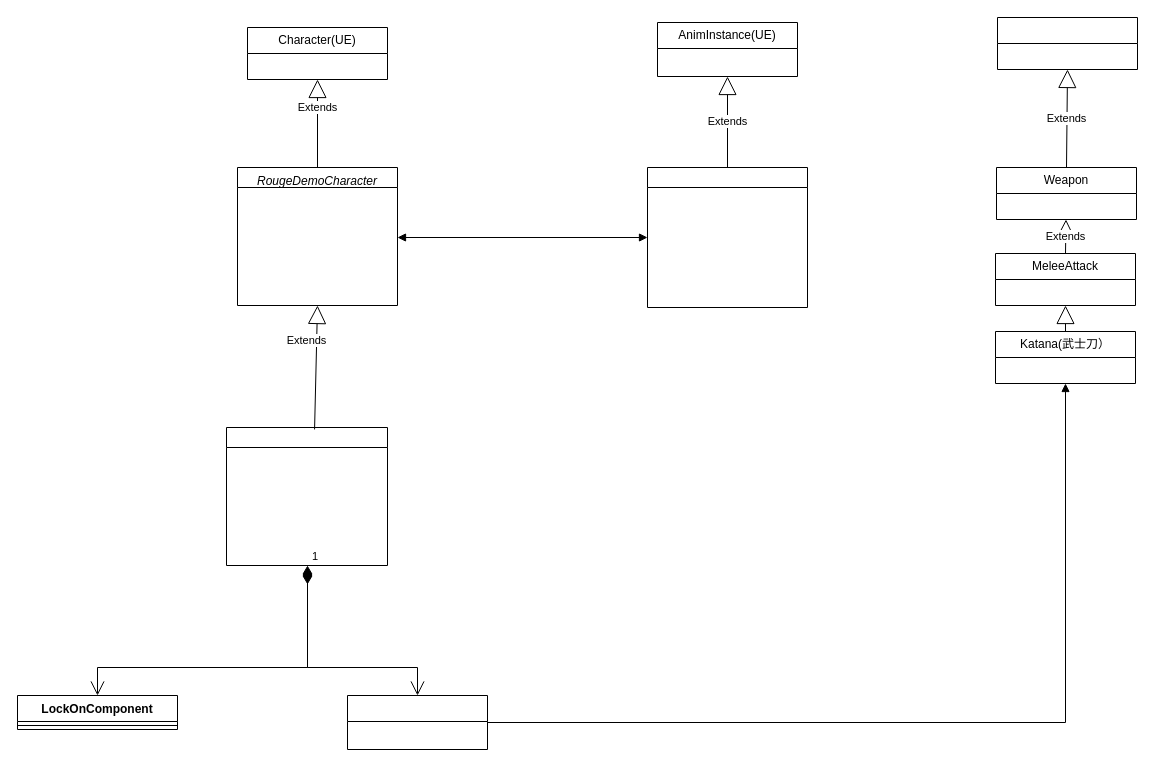
Image size: 1155x767. Some labels were removed from this diagram. Each missing label, with the centre of its shape:
Actor(UE): (1067,43)
CombatComponent: (417,722)
PlayerKatanaCharacter: (307,496)
RougeDemoAnimInstance: (727,237)
